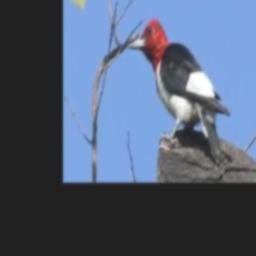Woodpecker: (128, 18, 229, 164)
